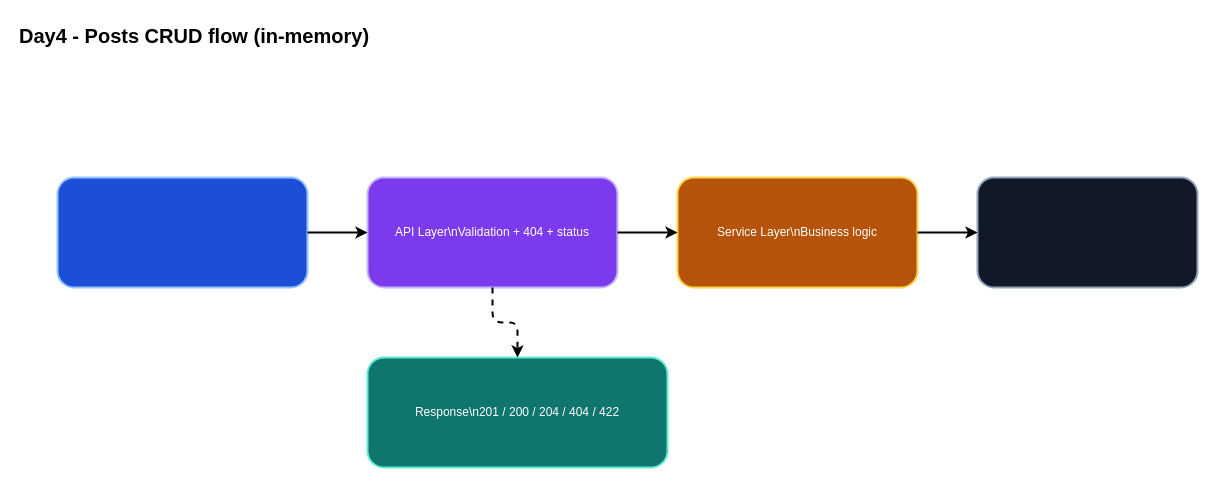
Image size: 1215x485. Some labels were removed from this diagram. The centre of each missing label's shape, as x and y in pixels:
"HTTP Request\nPOST/GET/PUT/DELETE /posts" goes at [182,232].
"posts_storage list\n(RAM only)" goes at [1087,232].
